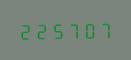five: (50, 20, 65, 40)
seven: (66, 19, 81, 39), (98, 19, 113, 39)
two: (17, 20, 32, 40), (33, 20, 48, 40)
zero: (82, 19, 97, 39)
